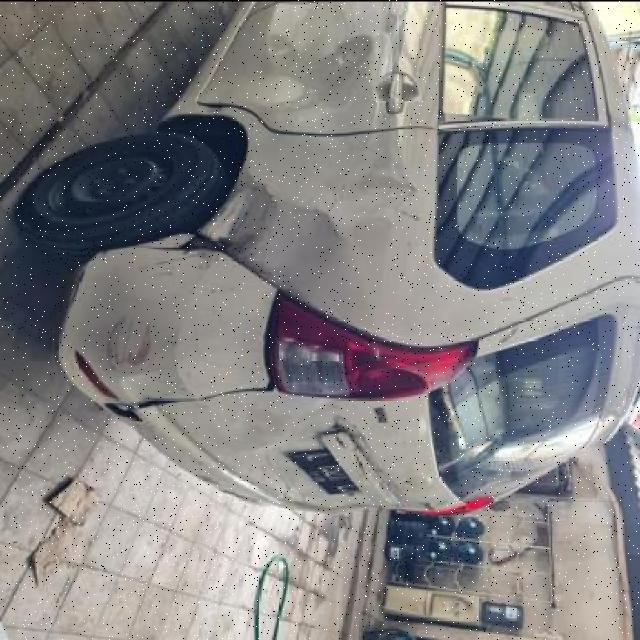damage: (141, 167, 352, 298), (318, 412, 391, 492), (323, 167, 417, 215), (99, 313, 158, 374)
